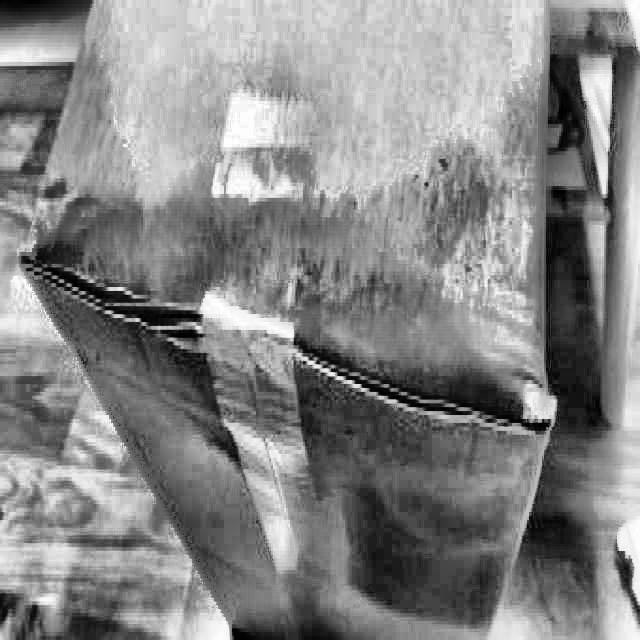box: (7, 0, 573, 639)
hole: (29, 242, 218, 351)
wet: (28, 57, 554, 639)
